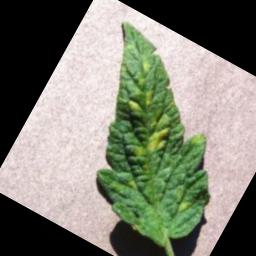Leaf_Mold: (131, 116, 176, 167), (141, 86, 159, 109), (125, 97, 143, 113)
